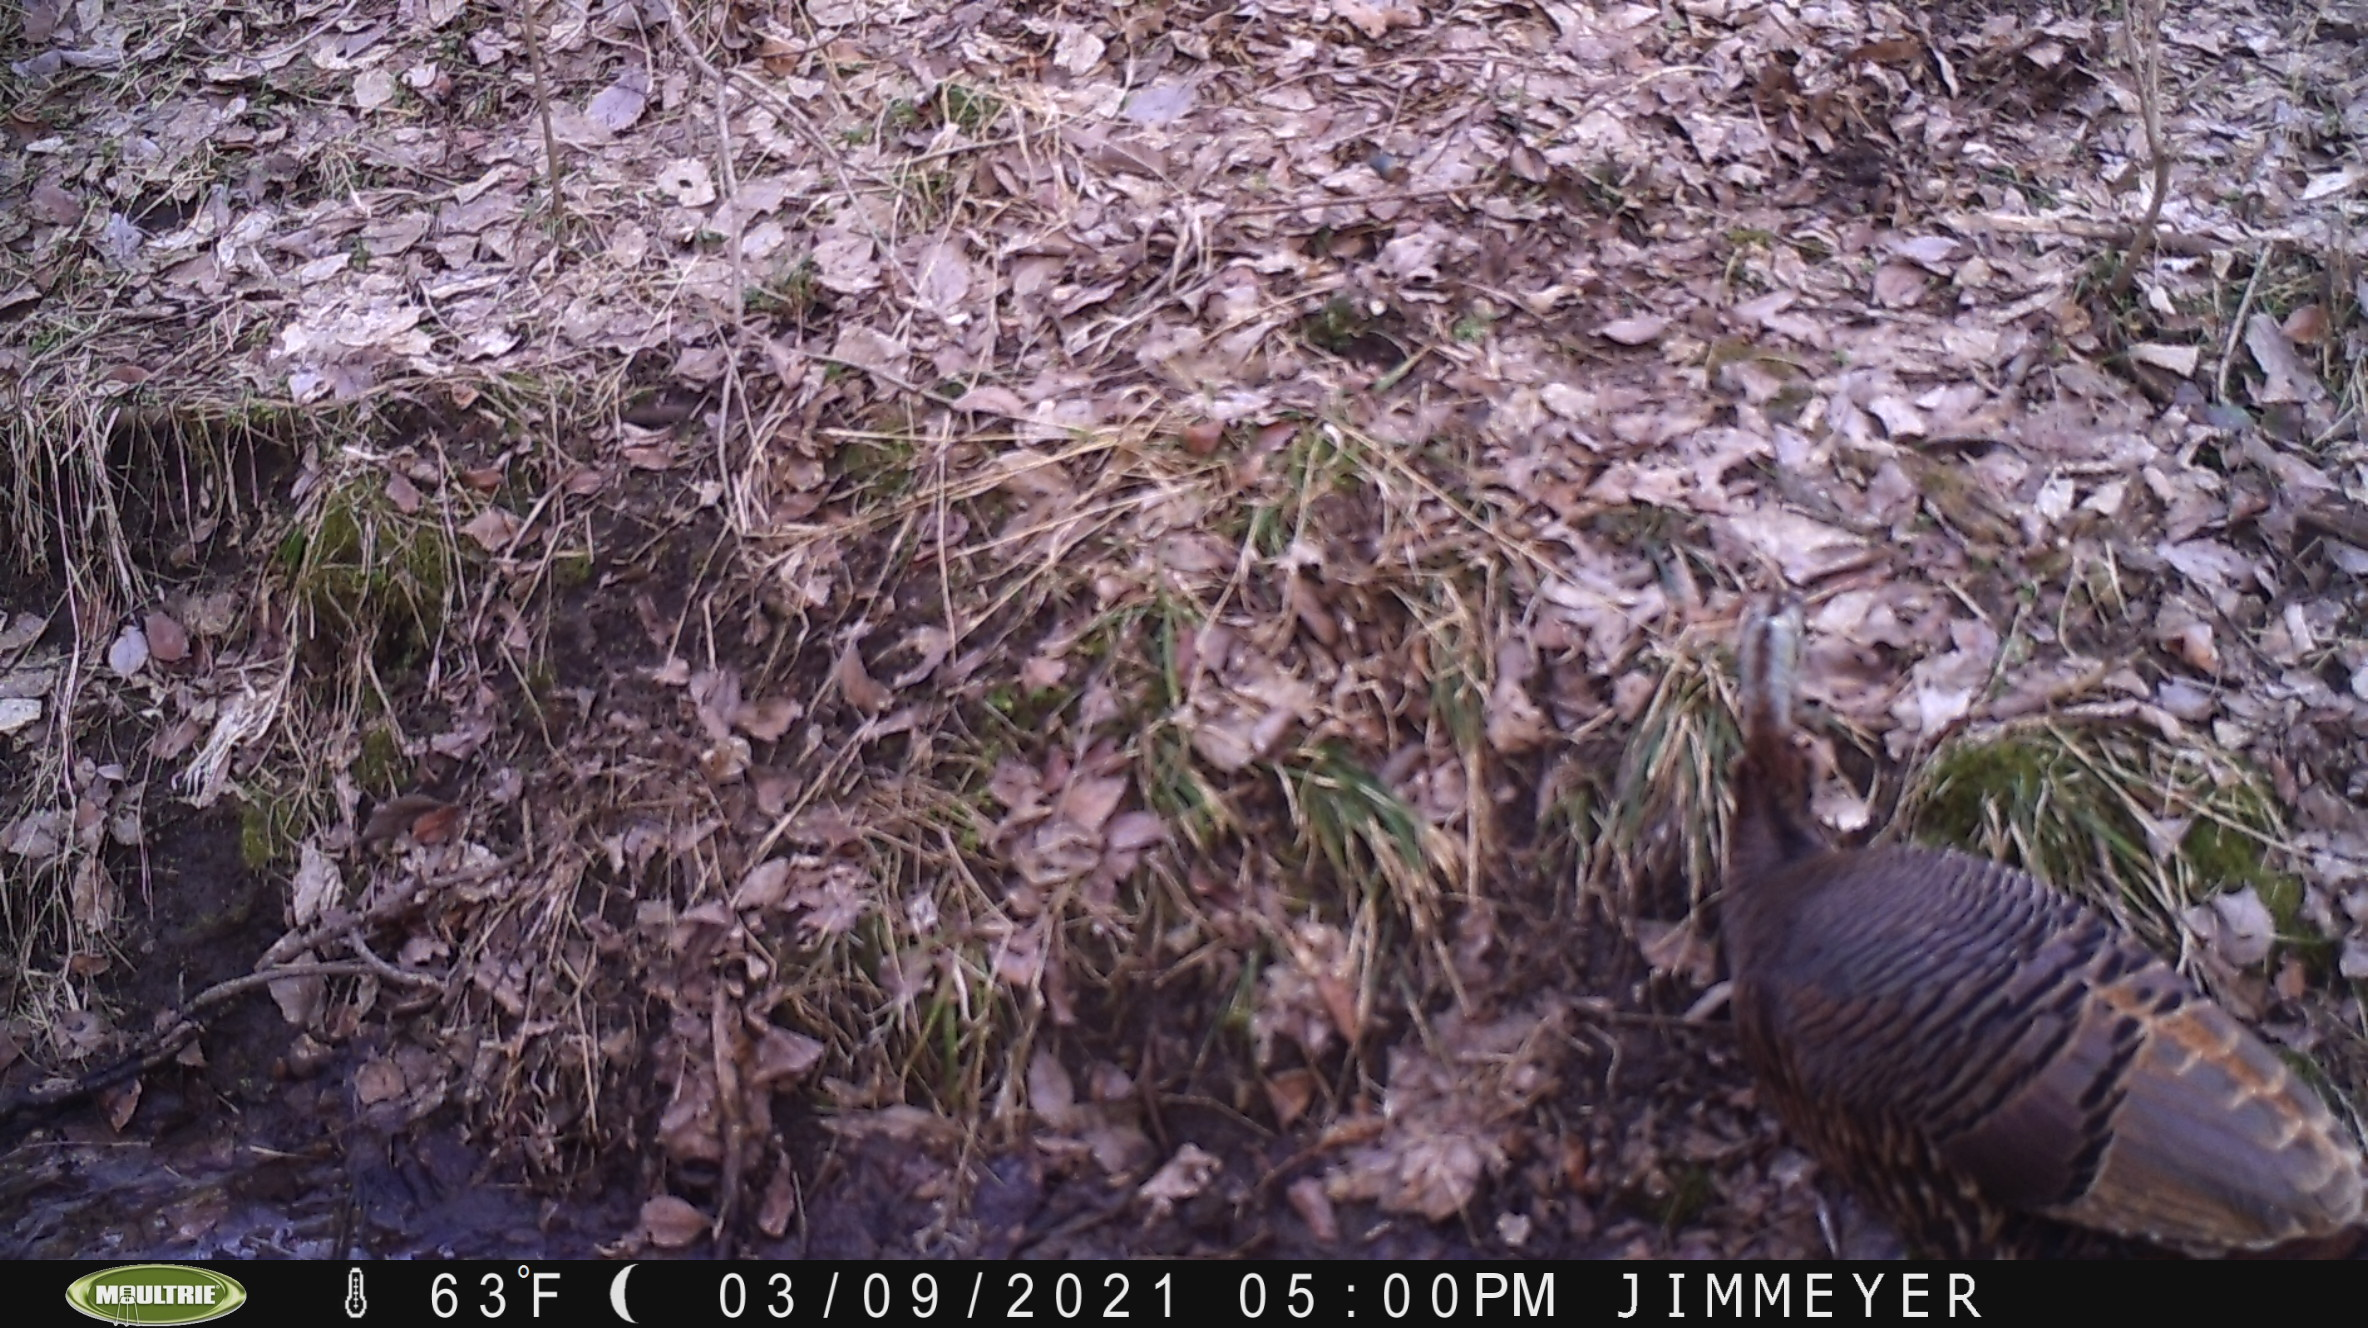Turkey: (1721, 603, 2368, 1258)
